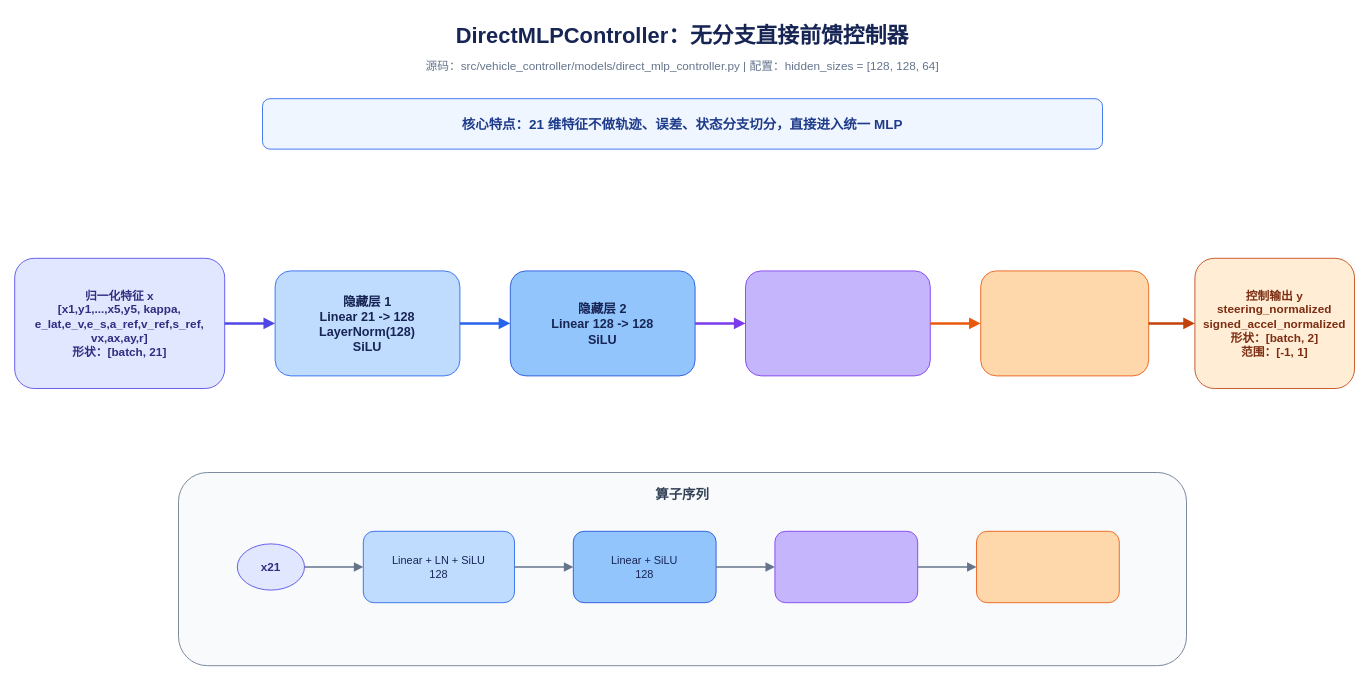
The diagram is 1369 pixels wide and 680 high, and some of its shapes have lost their labels. Each missing label, with the box of its shape:
Linear + SiLU 64: (774, 530, 918, 603)
Linear + Tanh 2: (976, 530, 1119, 603)
输出映射 Linear 64 -> 2 Tanh: (980, 270, 1149, 376)
隐藏层 3 Linear 128 -> 64 SiLU: (745, 270, 930, 376)
